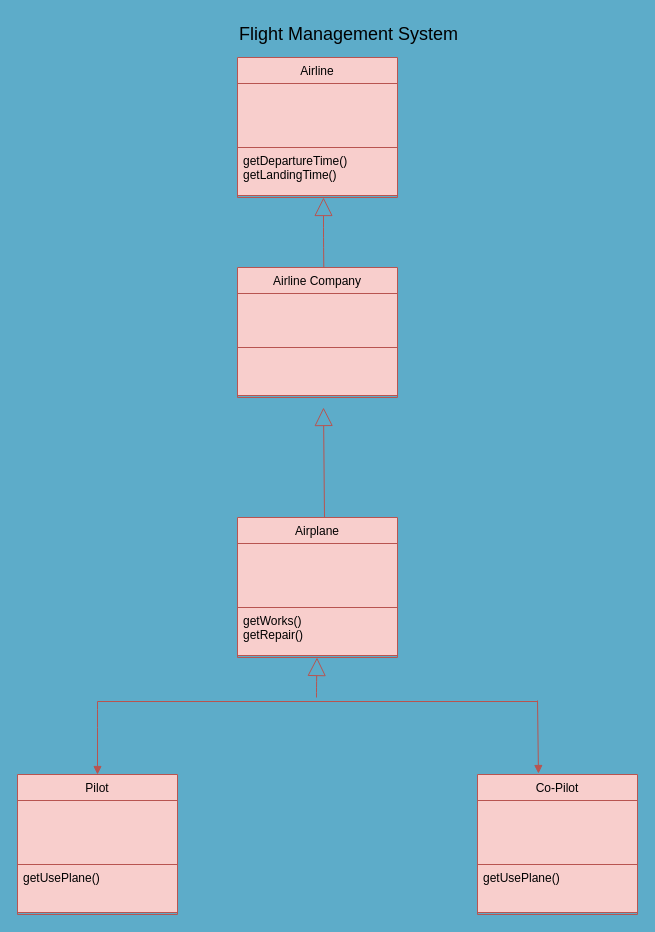
This 655x932 diagram has some shape labels left out. Each missing label, with the box of its shape:
AirplaneType ExperienceLevel(): (236, 292, 398, 348)
DepartureAirport LandingAirport: (236, 542, 398, 608)
getFly(): (236, 346, 398, 396)
Identity Name: (236, 82, 398, 148)
